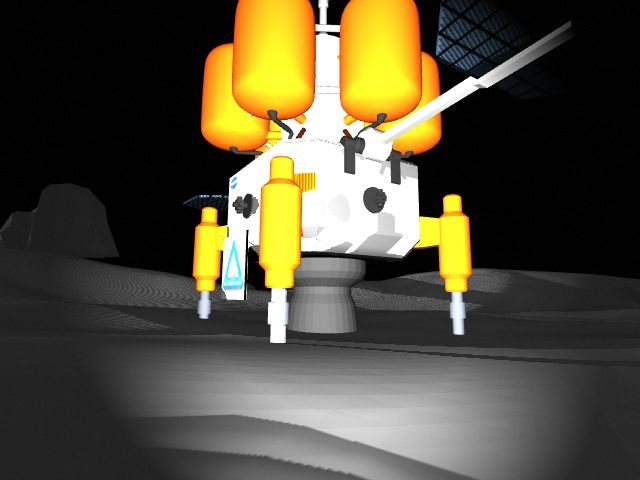basemarker: (221, 239, 245, 291)
